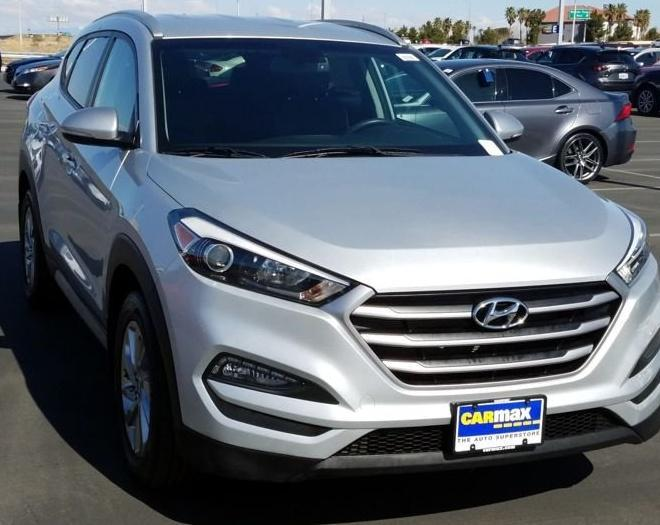Crossovers: (22, 13, 660, 486)
